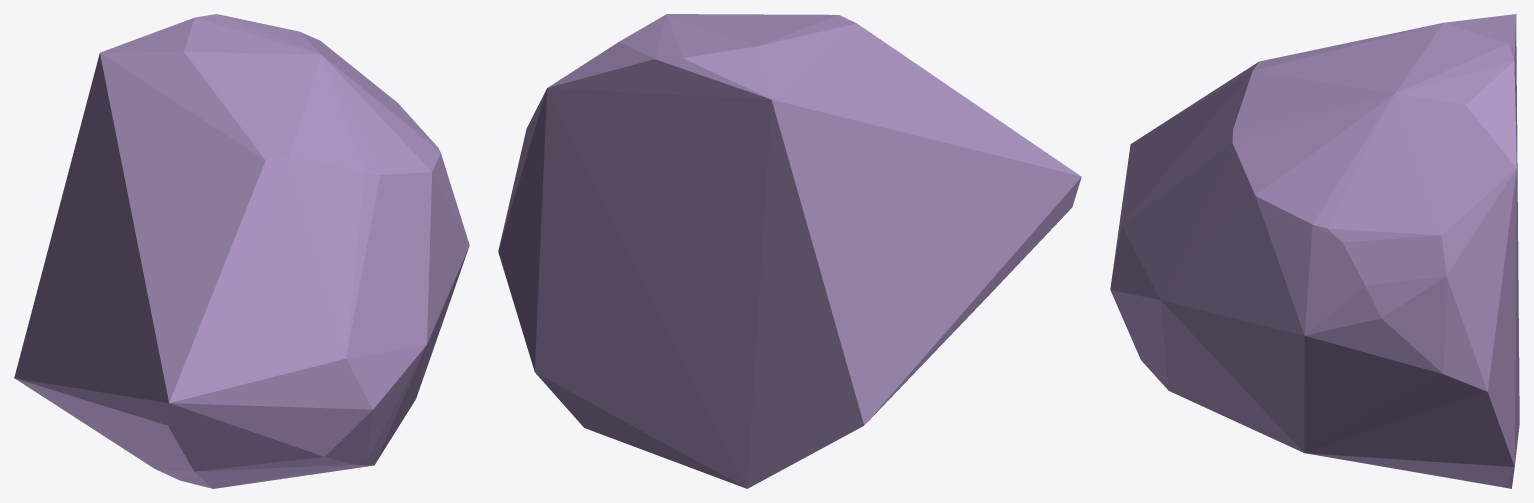
Rendered from food_prepared_cake_f01.glb.
3 views of the same model, side by side, from view 1: azimuth 30°, elevation 25°; view 2: azimuth 150°, elevation 25°; view 3: azimuth 270°, elevation 25° (orthographic). The views are drawn at different scales.
Parts seen in each view (by area): view 1: geometry_0; view 2: geometry_0; view 3: geometry_0.
Boxes of the visible parts, x1,y1,x2,y2 form: geometry_0: [14, 14, 469, 488]; geometry_0: [498, 14, 1081, 488]; geometry_0: [1110, 14, 1519, 488].
Bounding box in the file's own units: 0.4777 × 0.4704 × 0.4066.
